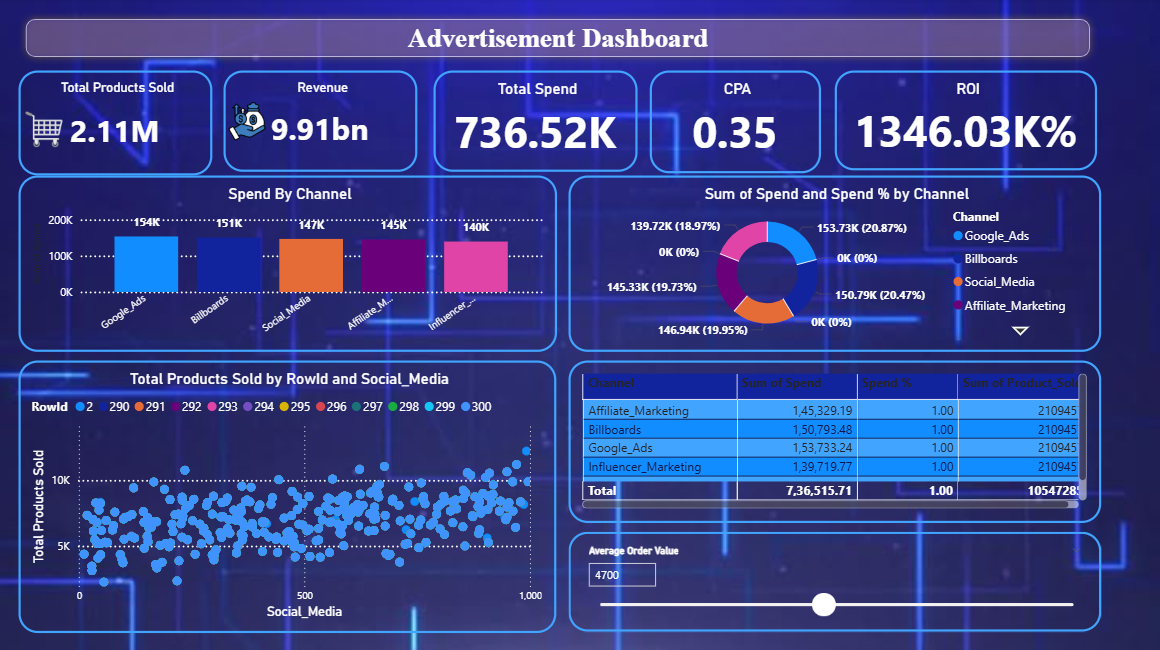

The page's visual inventory and layout, read from the dashboard file:
{"tool":"powerbi","page":{"name":"Page 1","canvas":[1280,720],"ordinal":0},"visuals":[{"type":"card","title":"Total Products Sold","fields":{"Values":["my_measures.Total Products Sold"]},"box":[24.7,79.6,212.7,115.3],"z":0},{"type":"card","title":"Revenue","fields":{"Values":["my_measures.Revenue (Total Only)"]},"box":[249.7,79.6,212.7,111.1],"z":1000},{"type":"card","title":"CPA","fields":{"Values":["my_measures.CPA (Total Only)"]},"box":[717.7,79.6,188,112.5],"z":2000},{"type":"card","title":"Total Spend","fields":{"Values":["my_measures.Total Spend"]},"box":[480.3,79.6,223.7,111.1],"z":3000},{"type":"slicer","fields":{"Values":["Average Order Value (AOV).Average Order Value (AOV)"]},"box":[628.5,585.9,584.6,109.8],"z":4000},{"type":"card","title":"ROI","fields":{"Values":["my_measures.ROI (Total Only)"]},"box":[920.8,79.6,288.2,109.8],"z":5000},{"type":"clusteredColumnChart","title":"Spend By Channel","fields":{"Category":["Ads Spend.Channel"],"Y":["Sum(Ads Spend.Spend)"]},"box":[24.7,194.9,591.4,193.5],"z":6000},{"type":"donutChart","fields":{"Category":["Ads Spend.Channel"],"Y":["Sum(Ads Spend.Spend)","my_measures.Spend %"]},"box":[628.5,194.9,584.6,193.5],"z":7000},{"type":"scatterChart","fields":{"Y":["my_measures.Total Products Sold"],"X":["Ads Base.Social_Media"],"Series":["Ads Spend.RowId"]},"box":[24.7,397.9,590.1,299.1],"z":8000},{"type":"tableEx","fields":{"Values":["Ads Spend.Channel","Sum(Ads Spend.Spend)","my_measures.Spend %","Sum(Ads Spend.Product_Sold)"]},"box":[628.5,397.9,584.6,178.4],"z":9000},{"type":"image","box":[24.7,115.3,57.6,57.6],"z":10000},{"type":"image","box":[248.4,105.7,54.9,59],"z":11000},{"type":"shape","box":[24.7,15.1,1184.2,57.6],"z":11001}]}

Visuals, with their boxes in screenshot pixels (x1, y1, x2, y2), scaled from the page's 1280x720 canvas onto the 1160x650 screenshot:
"Total Products Sold" card: <region>22, 72, 215, 176</region>
"Revenue" card: <region>226, 72, 419, 172</region>
"CPA" card: <region>650, 72, 821, 173</region>
"Total Spend" card: <region>435, 72, 638, 172</region>
slicer - Average Order Value (AOV).Average Order Value (AOV): <region>570, 529, 1099, 628</region>
"ROI" card: <region>834, 72, 1096, 171</region>
"Spend By Channel" clusteredColumnChart: <region>22, 176, 558, 351</region>
donutChart - Ads Spend.Channel x Sum(Ads Spend.Spend): <region>570, 176, 1099, 351</region>
scatterChart - my_measures.Total Products Sold x Ads Base.Social_Media: <region>22, 359, 557, 629</region>
tableEx - Ads Spend.Channel x Sum(Ads Spend.Spend): <region>570, 359, 1099, 520</region>
image: <region>22, 104, 75, 156</region>
image: <region>225, 95, 275, 149</region>
shape: <region>22, 14, 1096, 66</region>
